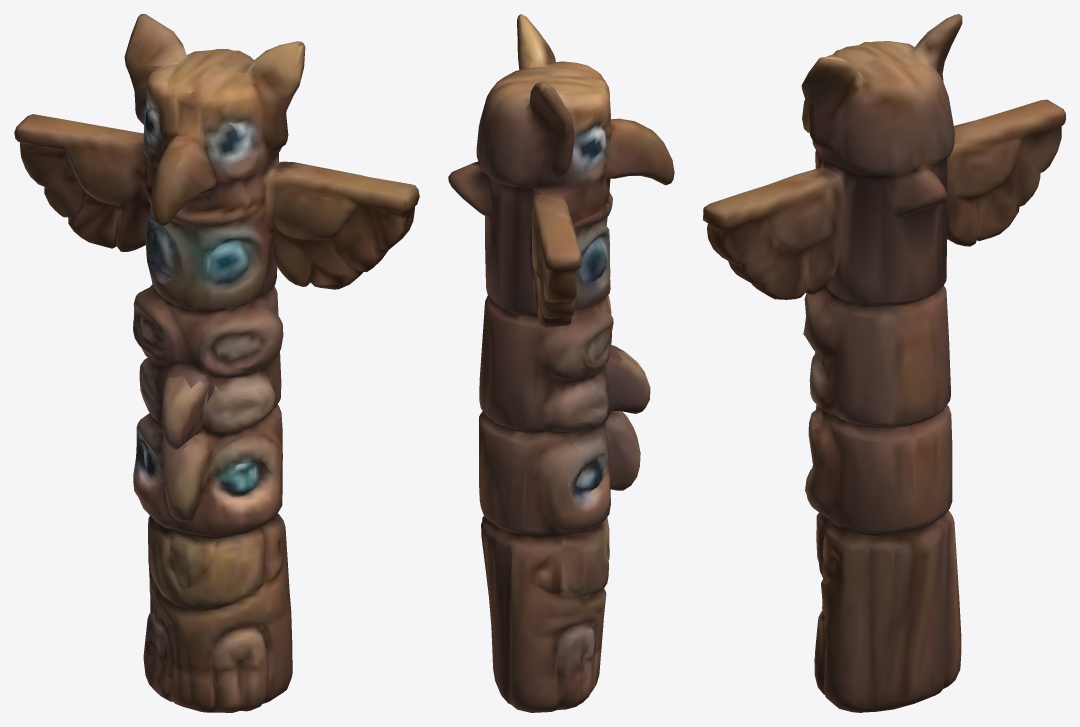
The model's file is c10_totem.glb.
The picture shows the model from 3 angles, left to right: view 1: azimuth 30°, elevation 25°; view 2: azimuth 150°, elevation 25°; view 3: azimuth 270°, elevation 25°; orthographic projection. The views are drawn at different scales.
Parts seen in each view (by area): view 1: c10_totem; view 2: c10_totem; view 3: c10_totem.
Boxes of the visible parts, left/top/right/bottom form: c10_totem: left=14, top=14, right=419, bottom=712; c10_totem: left=448, top=14, right=674, bottom=712; c10_totem: left=703, top=14, right=1065, bottom=712.
Bounding box in the file's own units: 0.971 × 2.55 × 1.26.
1 material, 1 textured.
